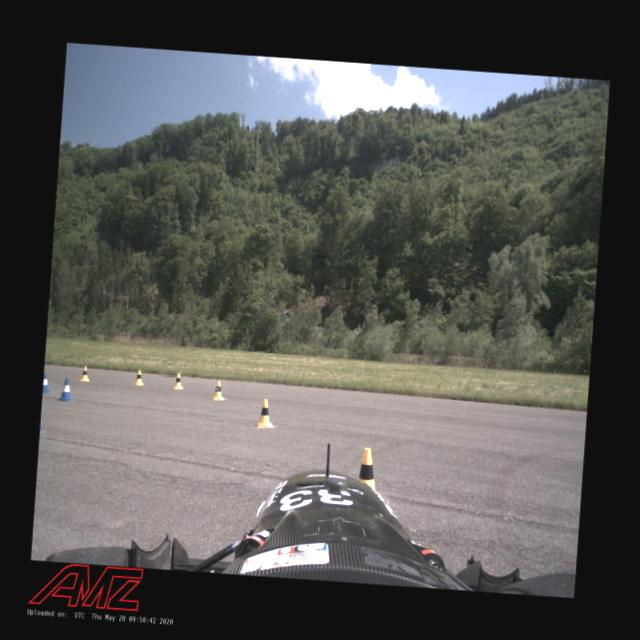blue_cone: (58, 378, 74, 402), (42, 373, 50, 393)
yellow_cone: (357, 447, 378, 491), (252, 398, 274, 429), (210, 379, 226, 401), (132, 369, 145, 386), (172, 372, 184, 390), (78, 366, 90, 382)
